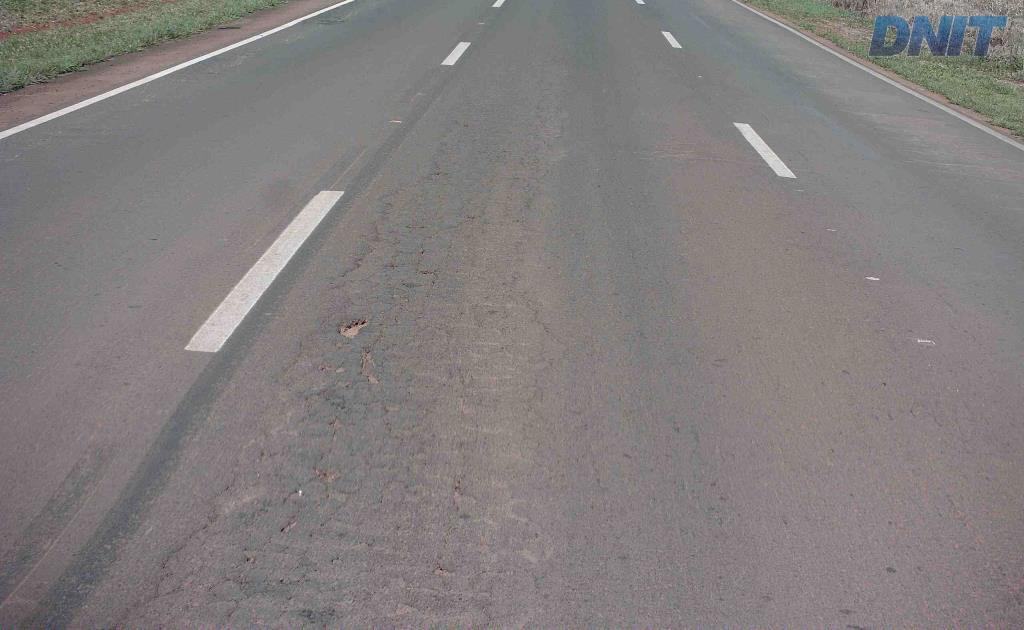pothole: (329, 310, 375, 341)
